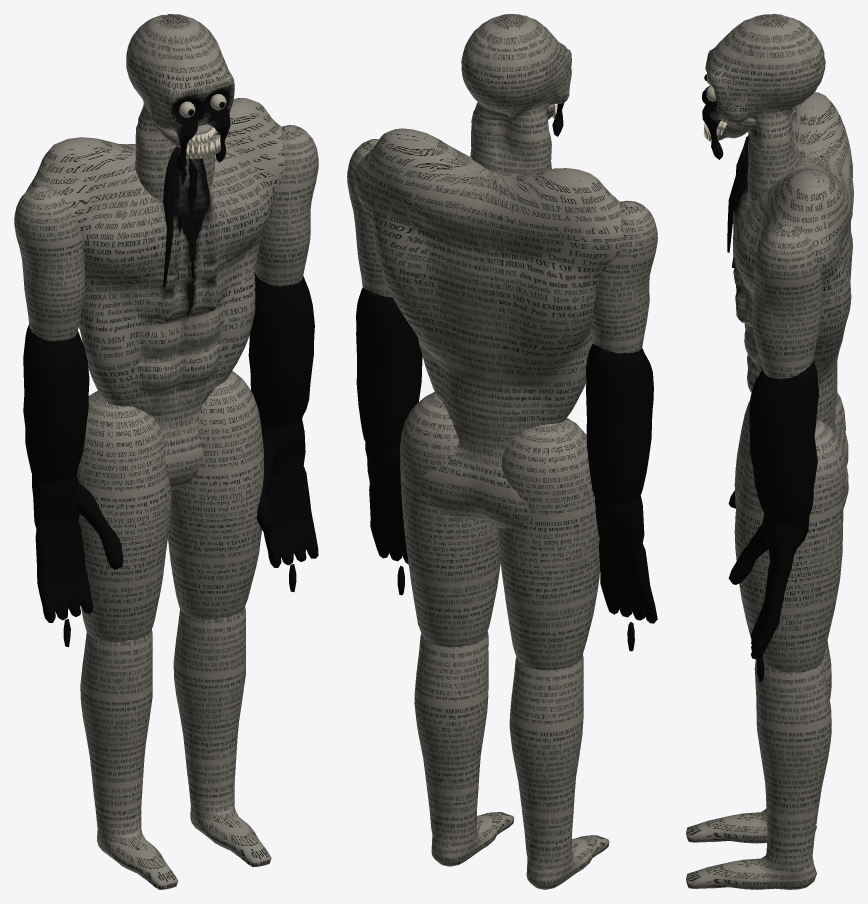
The model's file is existido_morte.glb.
3 views of the same model, side by side, from view 1: azimuth 30°, elevation 25°; view 2: azimuth 150°, elevation 25°; view 3: azimuth 270°, elevation 25° (orthographic).
Visible parts, largest first — view 1: P_chest, P_hipR, P_hipL, P_kneeR, P_kneeL, P_neck, P_elR, P_shR, P_elL, P_handR, P_handL, P_shL (+1 smaller); view 2: P_chest, P_hipR, P_hipL, P_kneeL, P_kneeR, P_neck, P_elR, P_elL, P_shR, P_handR, P_handL, P_shL; view 3: P_chest, P_kneeL, P_neck, P_hipL, P_elL, P_shL, P_handL, P_kneeR, P_hipR, P_jaw.
Part boxes in pixels (x1=…): P_chest: x1=25, y1=98, x2=285, y2=490; P_hipR: x1=77, y1=391, x2=171, y2=642; P_hipL: x1=168, y1=371, x2=263, y2=619; P_kneeR: x1=80, y1=629, x2=178, y2=889; P_kneeL: x1=173, y1=607, x2=271, y2=867; P_neck: x1=126, y1=14, x2=234, y2=199; P_elR: x1=23, y1=324, x2=89, y2=482; P_shR: x1=14, y1=185, x2=85, y2=341; P_elL: x1=248, y1=272, x2=314, y2=427; P_handR: x1=32, y1=474, x2=123, y2=647; P_handL: x1=257, y1=419, x2=318, y2=591; P_shL: x1=255, y1=125, x2=318, y2=286; P_chest: x1=354, y1=128, x2=623, y2=528; P_hipR: x1=497, y1=418, x2=599, y2=670; P_hipL: x1=400, y1=392, x2=500, y2=647; P_kneeL: x1=414, y1=631, x2=514, y2=866; P_kneeR: x1=509, y1=655, x2=609, y2=889; P_neck: x1=461, y1=14, x2=571, y2=173; P_elR: x1=586, y1=343, x2=653, y2=504; P_elL: x1=356, y1=287, x2=422, y2=448; P_shR: x1=591, y1=200, x2=657, y2=353; P_handR: x1=594, y1=496, x2=657, y2=651; P_handL: x1=365, y1=442, x2=408, y2=595; P_shL: x1=347, y1=139, x2=392, y2=297; P_chest: x1=727, y1=92, x2=853, y2=508; P_kneeL: x1=686, y1=659, x2=831, y2=889; P_neck: x1=702, y1=14, x2=825, y2=201; P_hipL: x1=734, y1=420, x2=845, y2=672; P_elL: x1=749, y1=361, x2=818, y2=526; P_shL: x1=752, y1=224, x2=822, y2=379; P_handL: x1=728, y1=514, x2=809, y2=681; P_kneeR: x1=686, y1=640, x2=831, y2=843; P_hipR: x1=734, y1=392, x2=845, y2=508; P_jaw: x1=703, y1=117, x2=756, y2=141.
Bounding box in the file's own units: 0.7619 × 2.04 × 0.3678.
Materials: 6 (2 with a texture image).
